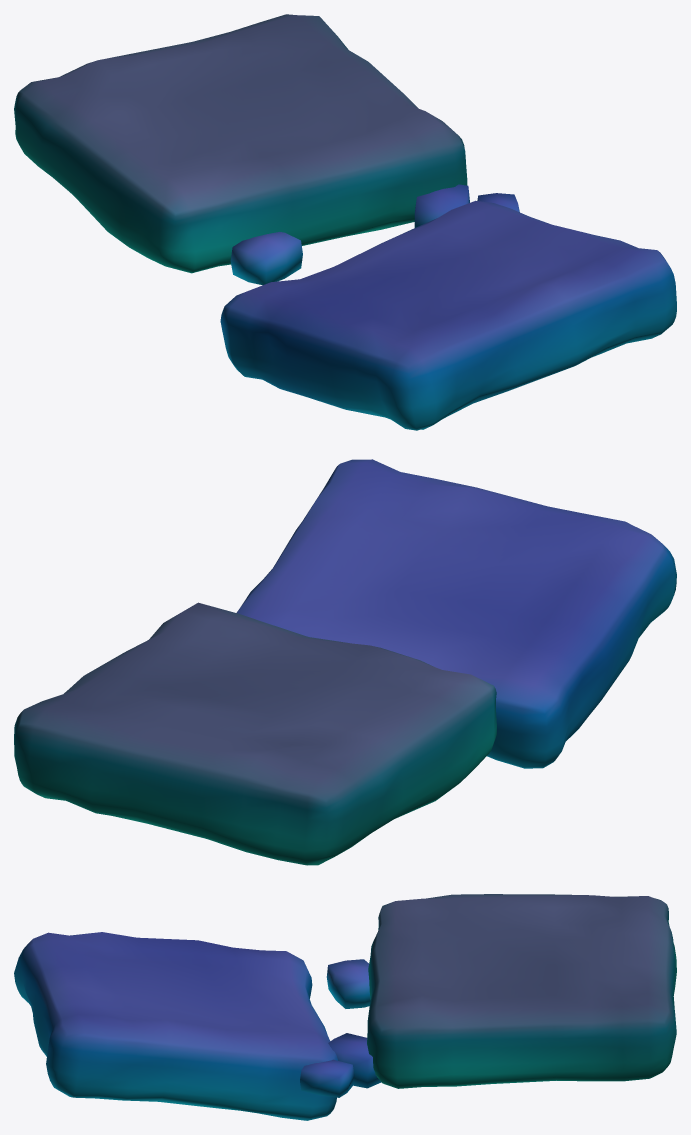
Rendered from causeway_slab_broken.glb.
The picture shows the model from 3 angles, top to bottom: view 1: azimuth 30°, elevation 25°; view 2: azimuth 150°, elevation 25°; view 3: azimuth 270°, elevation 25°; orthographic projection. The views are drawn at different scales.
Parts seen in each view (by area): view 1: causeway_slab_broken; view 2: causeway_slab_broken; view 3: causeway_slab_broken.
Boxes of the visible parts, x1,y1,x2,y2 form: causeway_slab_broken: [14, 14, 676, 430]; causeway_slab_broken: [14, 459, 676, 865]; causeway_slab_broken: [14, 894, 676, 1120].
Size of what is drawn, in the model's own units: 1.33 by 0.5691 by 2.53.
